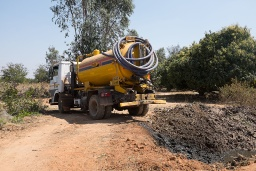truck: (50, 35, 167, 124)
